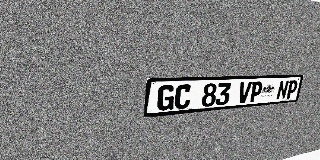plate: (144, 75, 304, 118)
